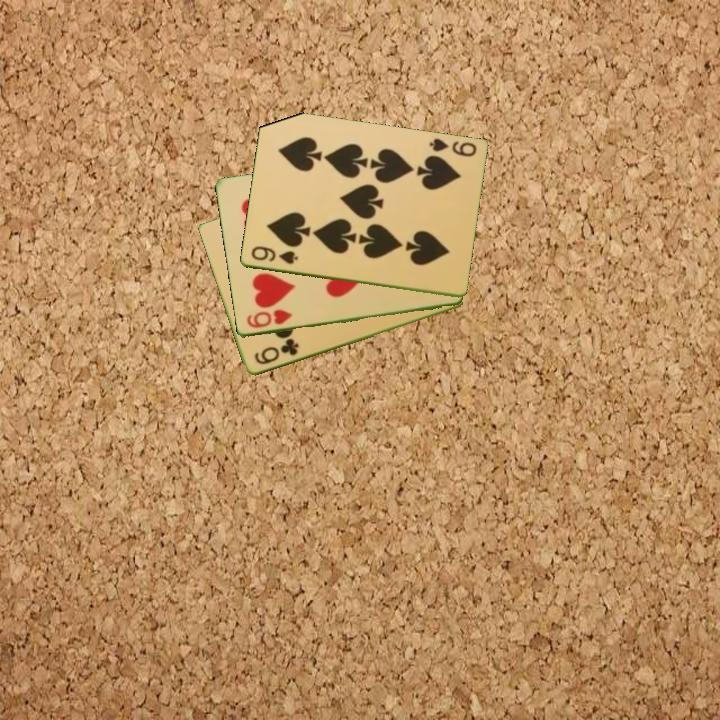6c: (250, 336, 302, 368)
6h: (243, 306, 295, 331)
9s: (426, 135, 479, 160), (247, 243, 301, 267)
